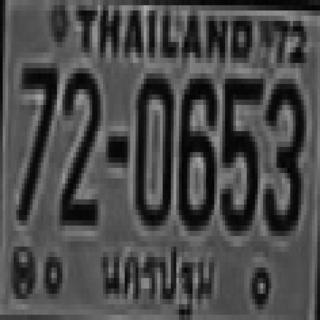N00: (133, 71, 171, 223)
N02: (60, 63, 98, 220)
N03: (262, 79, 302, 231)
N05: (220, 76, 260, 228)
N06: (176, 73, 214, 226)
N07: (16, 63, 57, 220)
P28: (96, 230, 218, 320)
